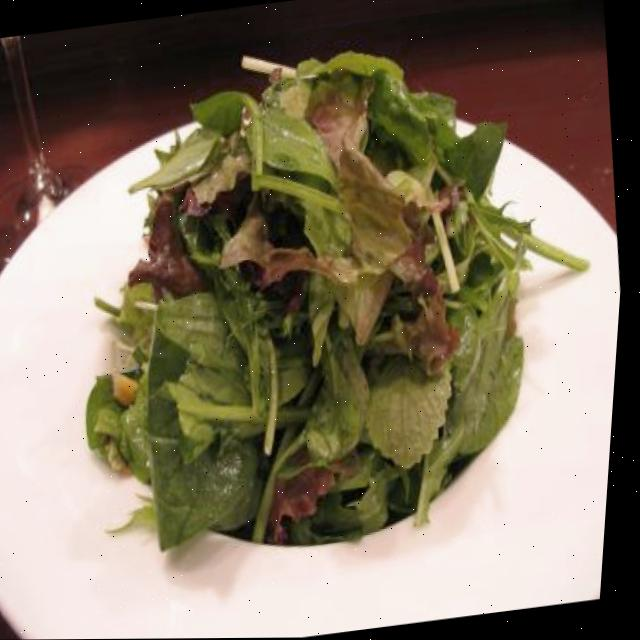蔬菜料理: (0, 1, 640, 640)
